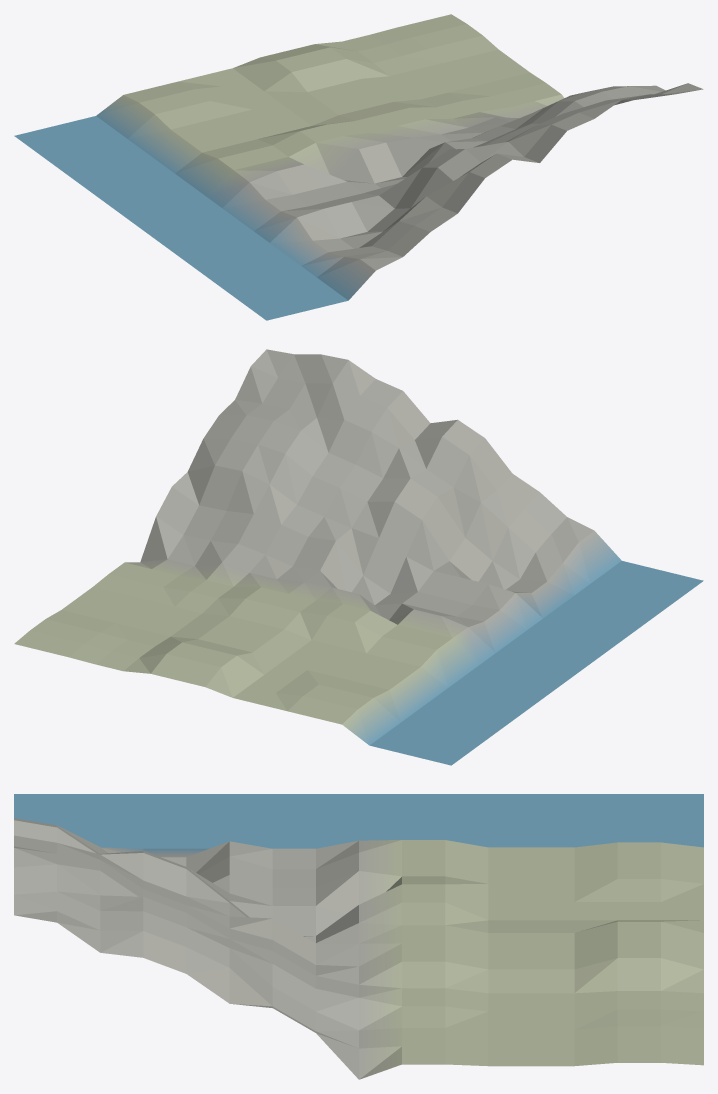
3 views of the same model, one above another, from view 1: azimuth 30°, elevation 25°; view 2: azimuth 150°, elevation 25°; view 3: azimuth 270°, elevation 25° (orthographic). The views are drawn at different scales.
Size of the model in its own units: 32 by 9.38 by 32.
